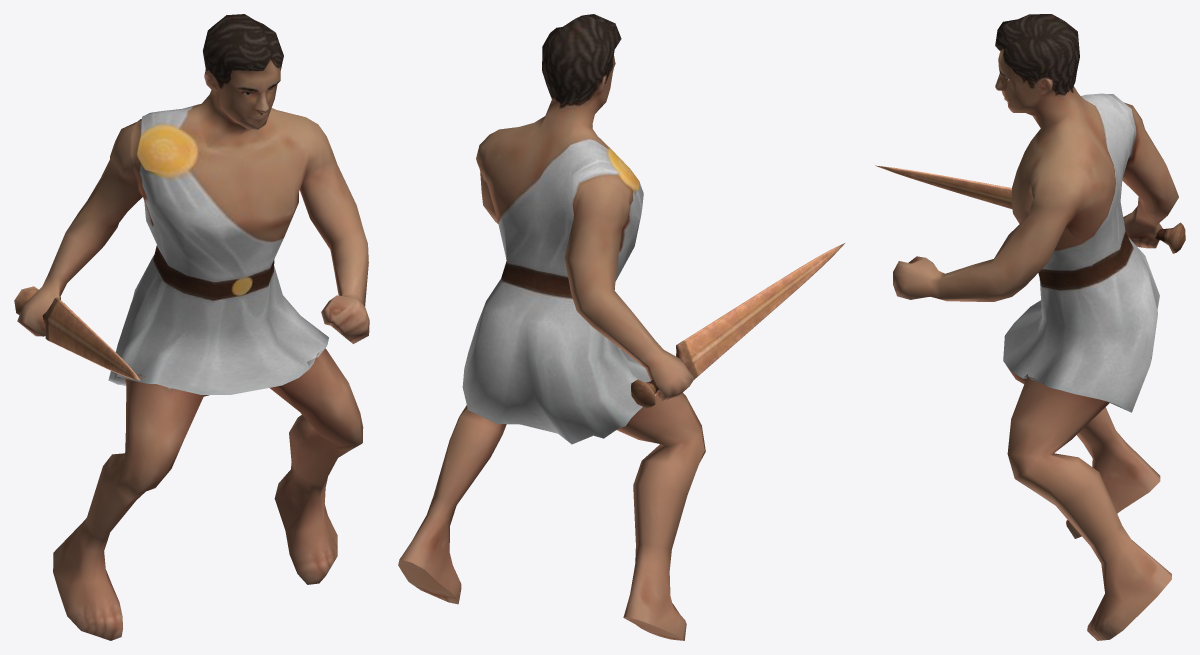
File: rider-base.glb
3 views of the same model, side by side, from view 1: azimuth 30°, elevation 25°; view 2: azimuth 150°, elevation 25°; view 3: azimuth 270°, elevation 25° (orthographic). The views are drawn at different scales.
Bounding box in the file's own units: 1.1 × 1.99 × 0.9757.
2 materials, 2 textured.
